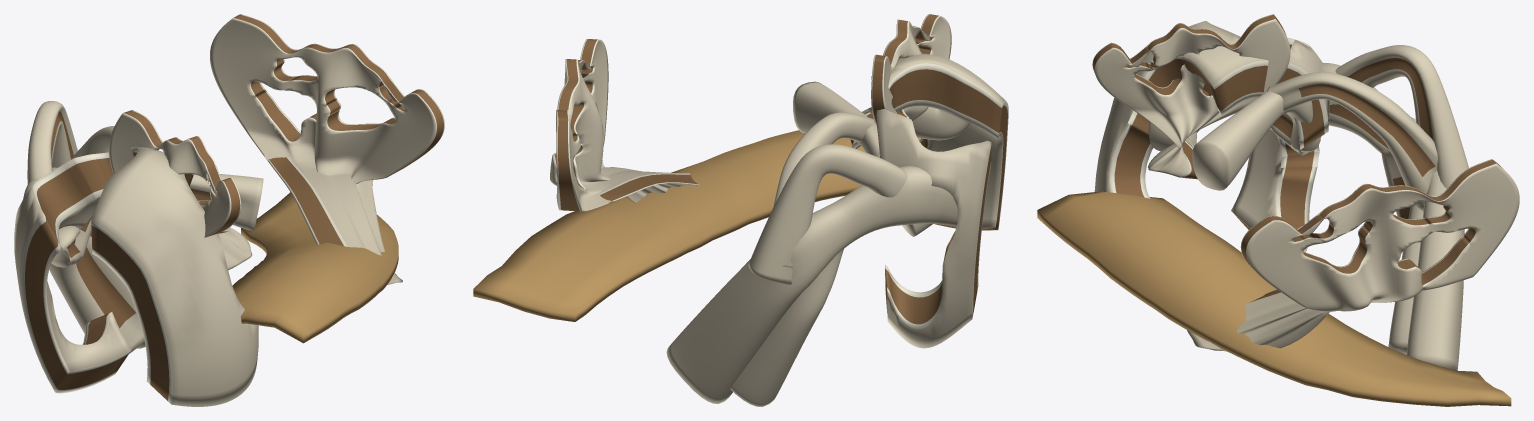
File: cranio-thoracic.glb
3 views of the same model, side by side, from view 1: azimuth 30°, elevation 25°; view 2: azimuth 150°, elevation 25°; view 3: azimuth 270°, elevation 25° (orthographic). The views are drawn at different scales.
Visible parts, largest first — view 1: Original / fractured sheltered occipital pocket, Original / stepped back asymmetric scapular load plate, ossuary_sediment, Original / exposed branching scapular ridge, Original / lower unequal costal root returning to sediment, Original / unequal upper costal fork and rejoining lamina, Original / oblique occipital load plate behind bright exit, Original / broad seated far-cheek cortical fan 1, Original / deeper uneven fork seen through first gallery; view 2: ossuary_sediment, Original / fractured sheltered occipital pocket, Original / main leached costal load plate, Original / stepped back asymmetric scapular load plate, Original / unequal upper costal fork and rejoining lamina, Original / lower unequal costal root returning to sediment, Original / exposed branching scapular ridge, Original / oblique occipital load plate behind bright exit, Original / deeper uneven fork seen through first gallery, Original / broad seated far-cheek cortical fan -1; view 3: ossuary_sediment, Original / stepped back asymmetric scapular load plate, Original / fractured sheltered occipital pocket, Original / exposed branching scapular ridge, Original / main leached costal load plate, Original / deeper uneven fork seen through first gallery, Original / unequal upper costal fork and rejoining lamina, Original / oblique occipital load plate behind bright exit, Original / lower unequal costal root returning to sediment, Original / broad seated far-cheek cortical fan 1, Original / broad seated far-cheek cortical fan -1.
Boxes of the visible parts, x1,y1,x2,y2 form: Original / fractured sheltered occipital pocket: (14,146,258,406); Original / stepped back asymmetric scapular load plate: (210,14,444,284); ossuary_sediment: (232,192,398,343); Original / exposed branching scapular ridge: (109,110,252,269); Original / lower unequal costal root returning to sediment: (49,236,144,353); Original / unequal upper costal fork and rejoining lamina: (27,101,77,184); Original / oblique occipital load plate behind bright exit: (74,174,263,259); Original / broad seated far-cheek cortical fan 1: (51,225,80,267); Original / deeper uneven fork seen through first gallery: (71,126,114,159); ossuary_sediment: (473,130,920,321); Original / fractured sheltered occipital pocket: (871,54,1008,348); Original / main leached costal load plate: (666,166,957,403); Original / stepped back asymmetric scapular load plate: (550,39,699,211); Original / unequal upper costal fork and rejoining lamina: (748,144,907,284); Original / lower unequal costal root returning to sediment: (730,249,843,406); Original / exposed branching scapular ridge: (850,14,951,148); Original / oblique occipital load plate behind bright exit: (793,81,879,157); Original / deeper uneven fork seen through first gallery: (773,112,876,267); Original / broad seated far-cheek cortical fan -1: (912,107,970,140); ossuary_sediment: (1037,191,1511,406); Original / stepped back asymmetric scapular load plate: (1187,159,1519,351); Original / fractured sheltered occipital pocket: (1094,21,1329,252); Original / exposed branching scapular ridge: (1092,14,1290,179); Original / main leached costal load plate: (1322,63,1464,370); Original / deeper uneven fork seen through first gallery: (1267,72,1437,210); Original / unequal upper costal fork and rejoining lamina: (1329,45,1468,188); Original / oblique occipital load plate behind bright exit: (1192,91,1320,190); Original / lower unequal costal root returning to sediment: (1381,149,1423,354); Original / broad seated far-cheek cortical fan 1: (1270,113,1321,155); Original / broad seated far-cheek cortical fan -1: (1148,122,1174,151).
Bounding box in the file's own units: 672 × 491 × 662.
